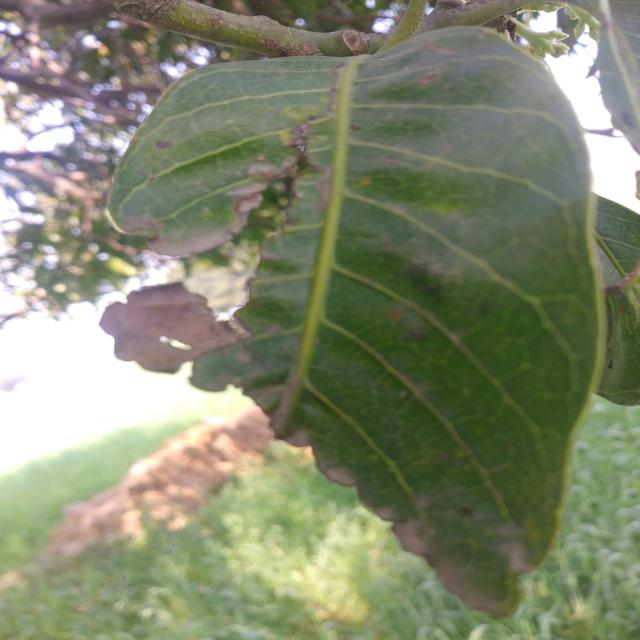Anthracnose: (151, 132, 172, 150)
Bacterial Cancer: (117, 276, 245, 362), (139, 208, 273, 259), (270, 114, 320, 183)
